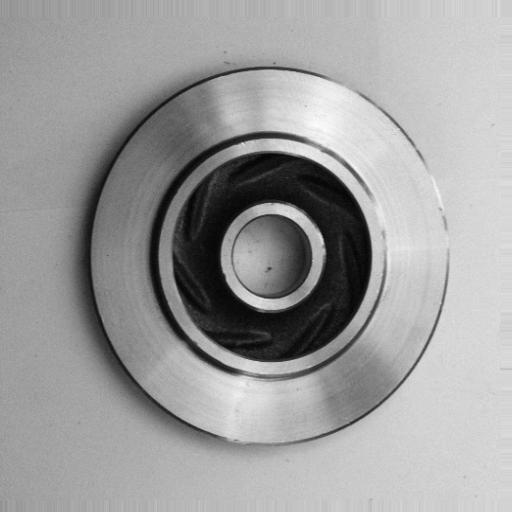scratch: (423, 160, 471, 268), (369, 188, 400, 276)
unpolished_casting: (85, 64, 451, 451)
